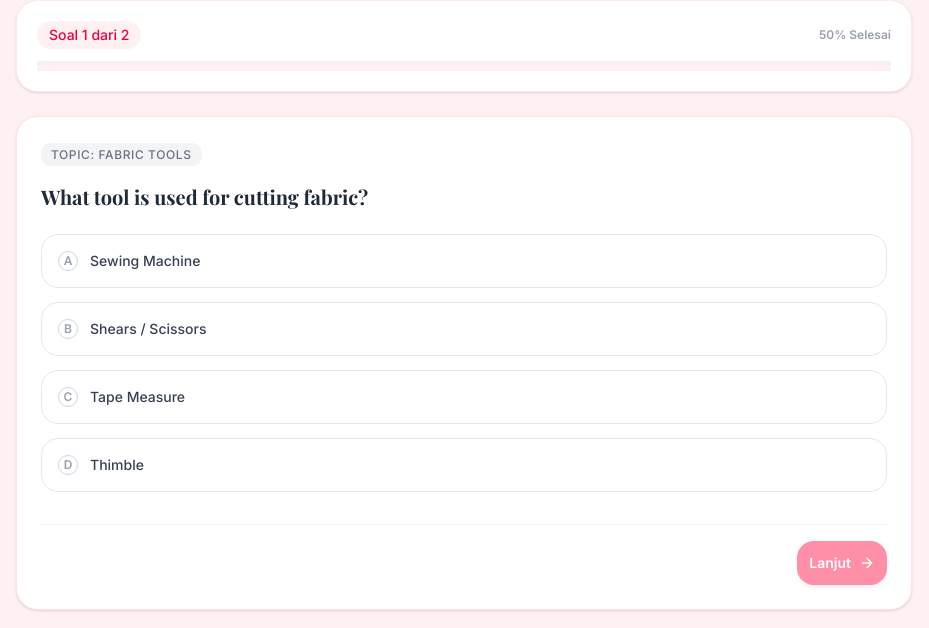
Test: QuizEngine Component › should enable Lanjut button only when option is selected
Expected: the button "Lanjut" is disabled, [797,541,887,585]
Click the text "Shears / Scissors".
click(148, 329)  # box [90,320,206,338]
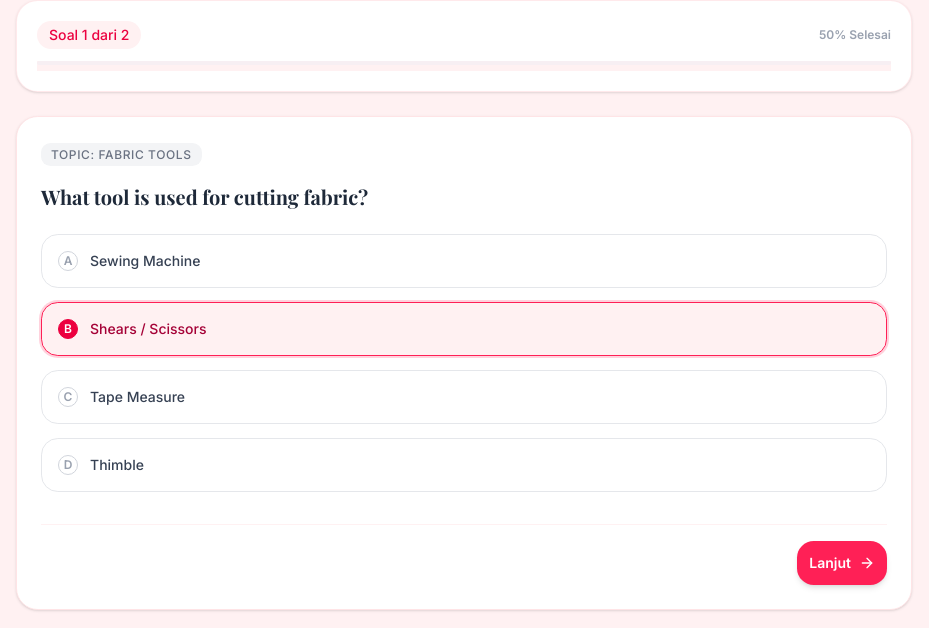
Now the button "Lanjut" is enabled, box [797,541,887,585]
